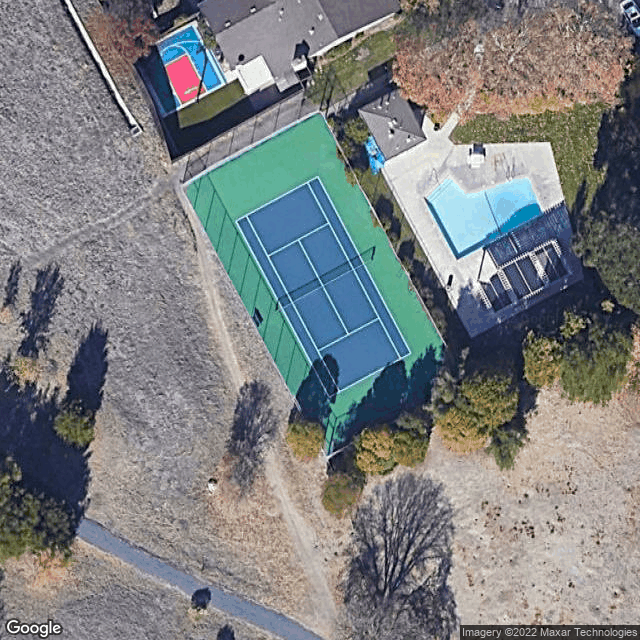Court: (233, 174, 413, 398)
